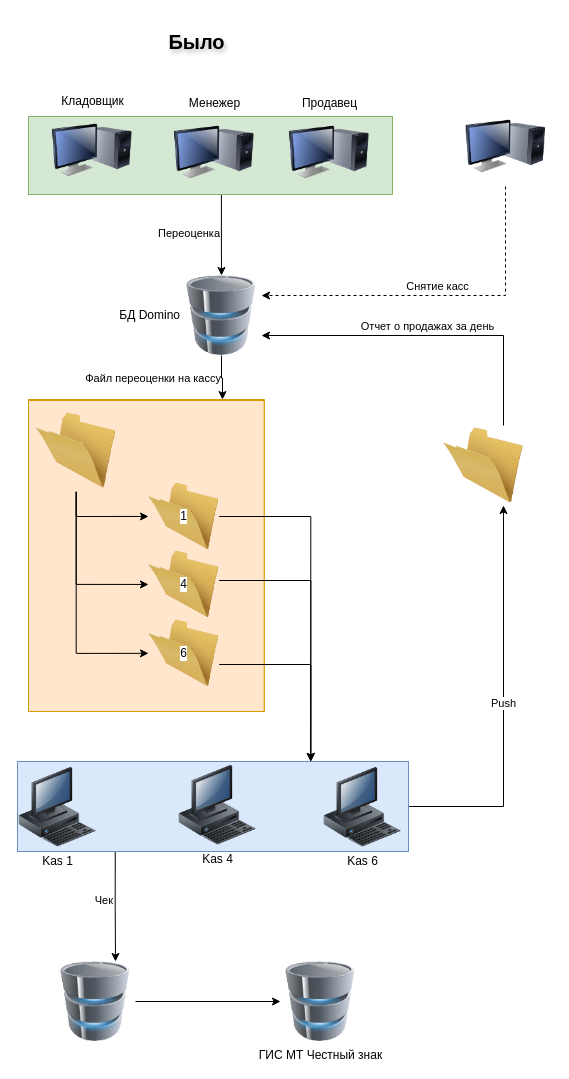
The diagram is 569 pixels wide and 1079 high, and some of its shapes have lost their labels. The shapes that lost their labels are listed below. From the top down, each one's centre as x and y in pixels, then its label:
the point at 505,146: Старший Кассир
the point at 76,450: For Kas
the point at 483,465: From Kas
the point at 95,1001: ОФД
